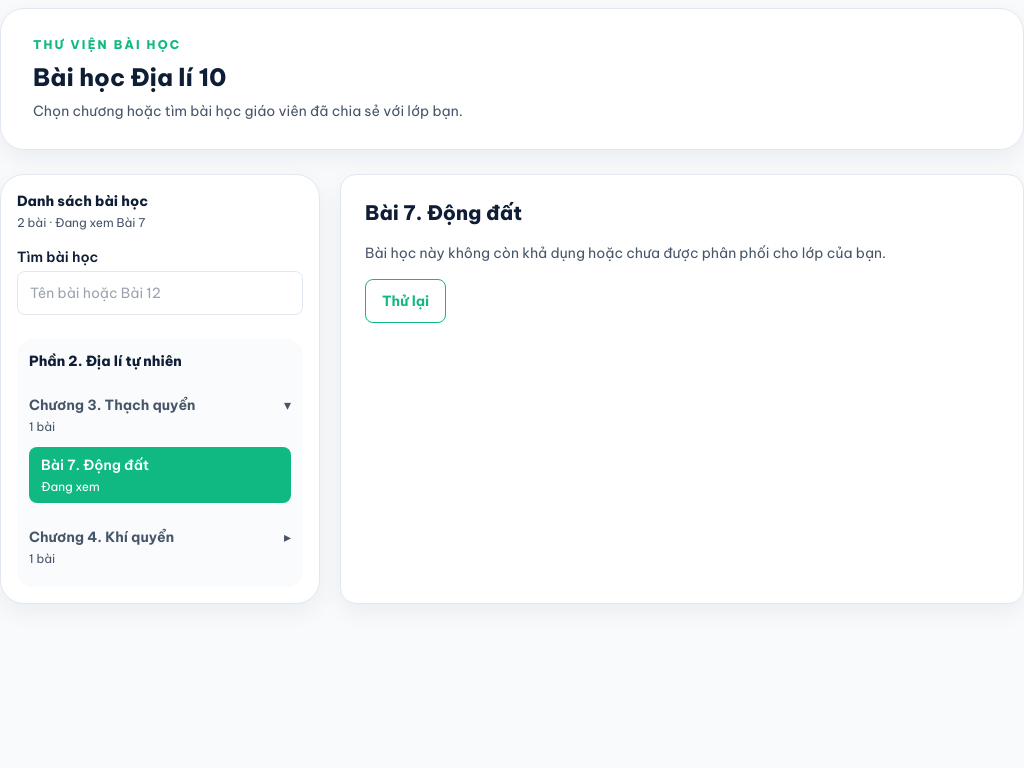
Test case: Student Lessons list with Laravel API mock › retries only the newly selected lesson after an older detail failed
Expected: the message is shown, x1=365 y1=244 x2=886 y2=323
Click the button "Chương 4. Khí quyển 1 bài ▸".
click(160, 547)  # box x1=29 y1=519 x2=291 y2=575
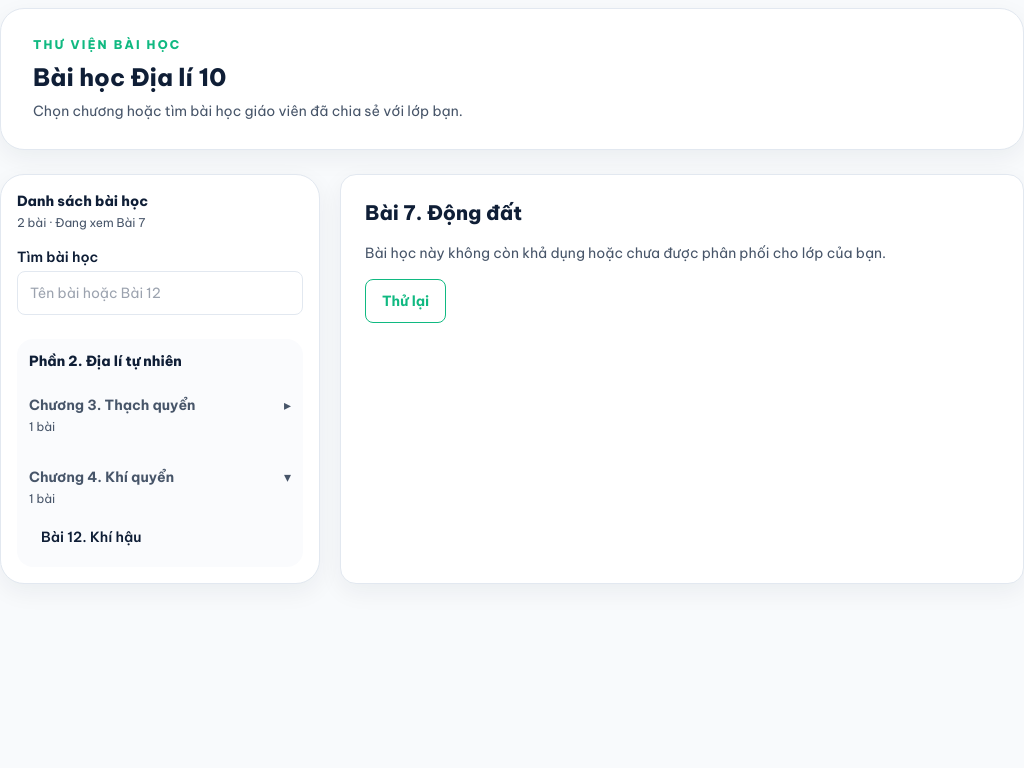
Click the button "Bài 12. Khí hậu".
click(116, 537)  # box x1=29 y1=519 x2=291 y2=555
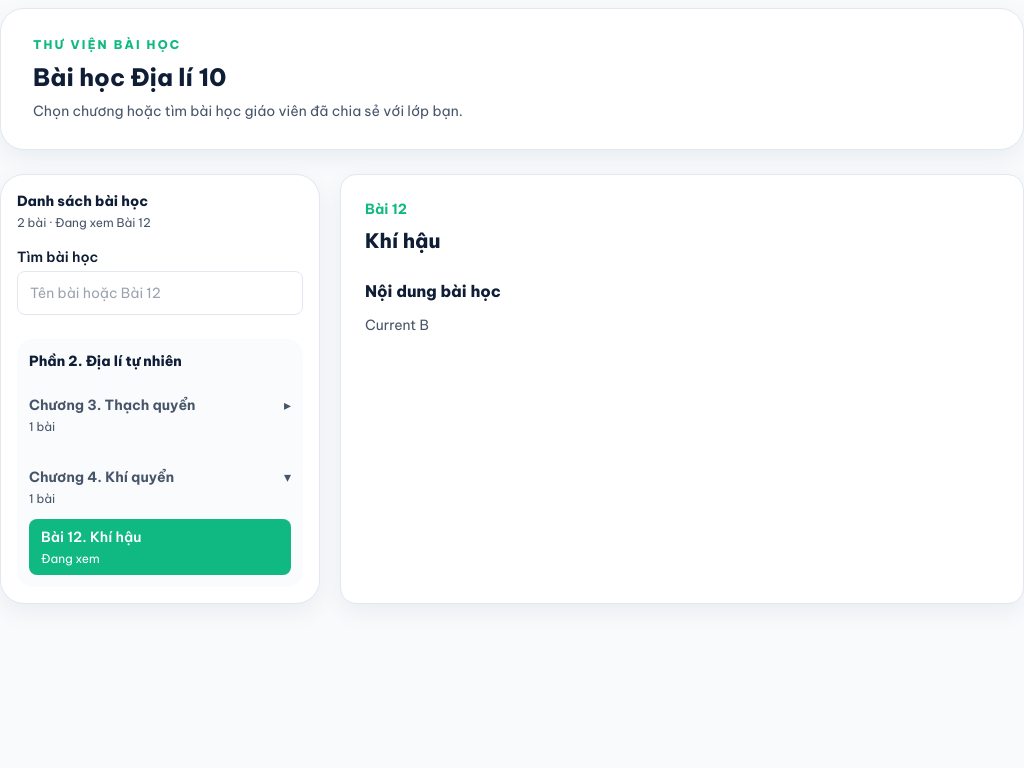
Expected: the text "Current B" is shown, x1=365 y1=316 x2=429 y2=334
Expected: the message is gone
